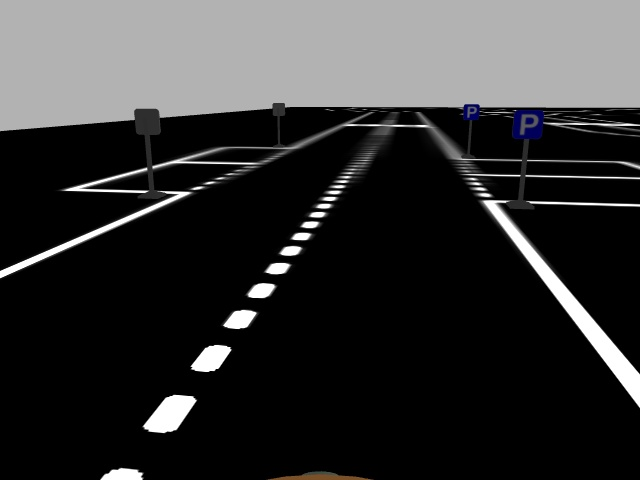parking: (512, 108, 543, 139), (463, 103, 479, 120)
